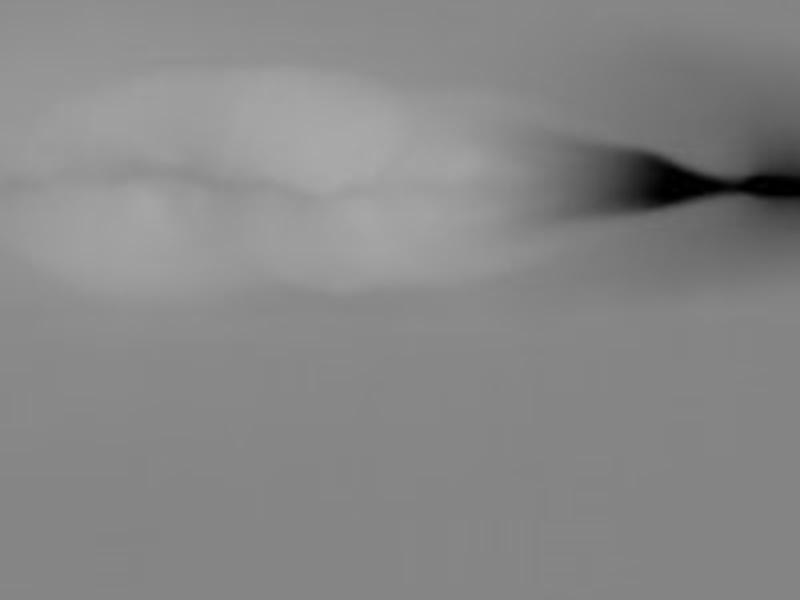defect: (576, 141, 724, 210), (729, 176, 797, 201)
